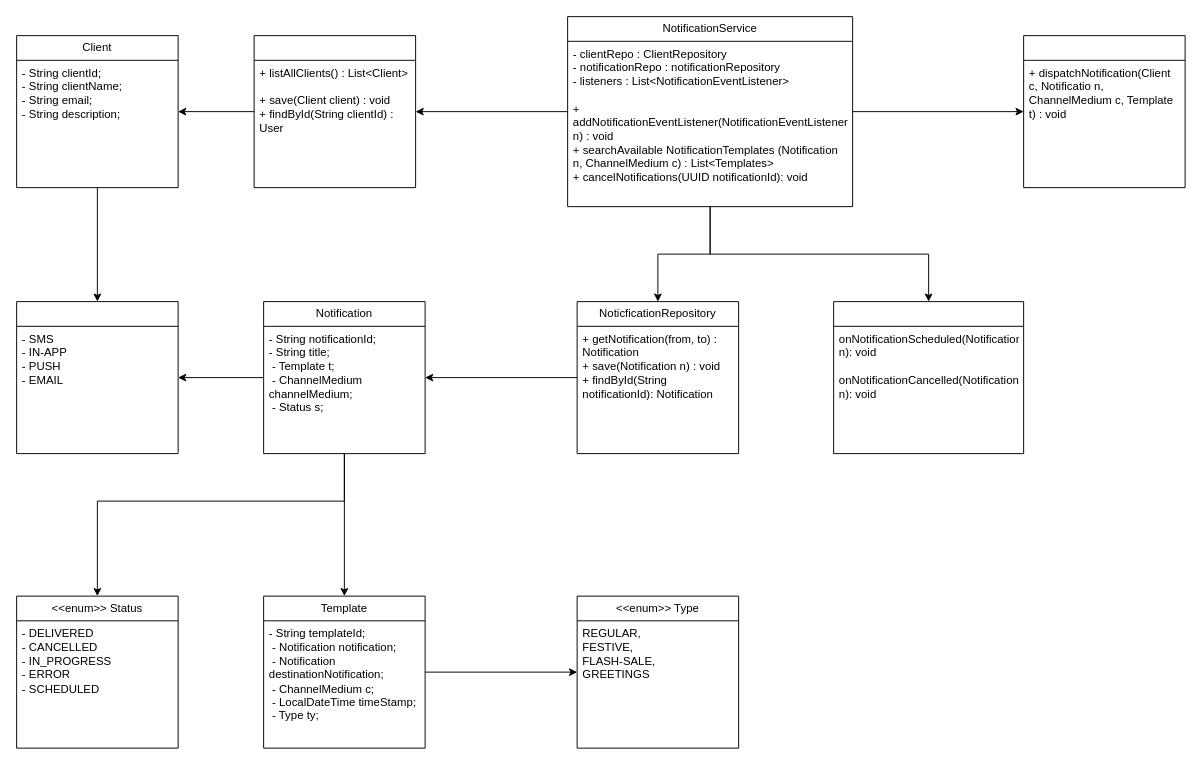
Image size: 1202x768. Some labels were removed from this diagram. The shapes that lost their labels are listed below. From the top down, each one's box as (x1, y1, x2, y2) in pixels, then its label:
(253, 35, 416, 188): ClientRepository
(1023, 35, 1185, 188): NotificationHandler
(16, 301, 178, 454): <<enum>>ChanelMediums
(833, 301, 1024, 454): NotificationEventListener
